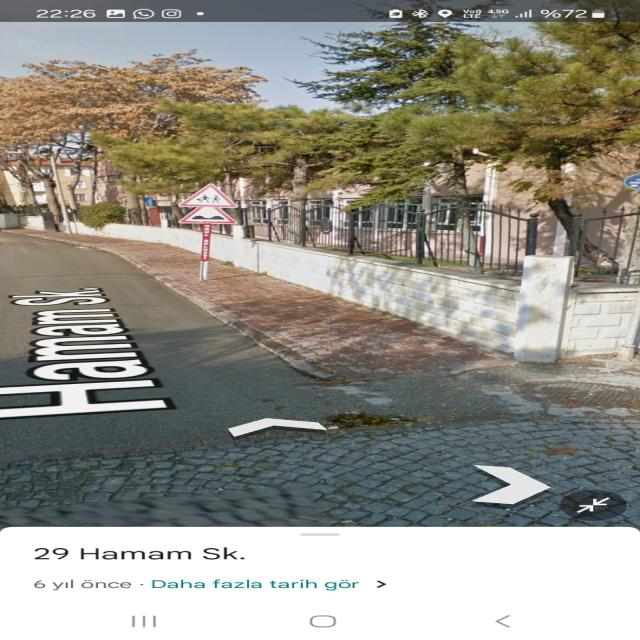okul_gecidi: (178, 183, 238, 208)
